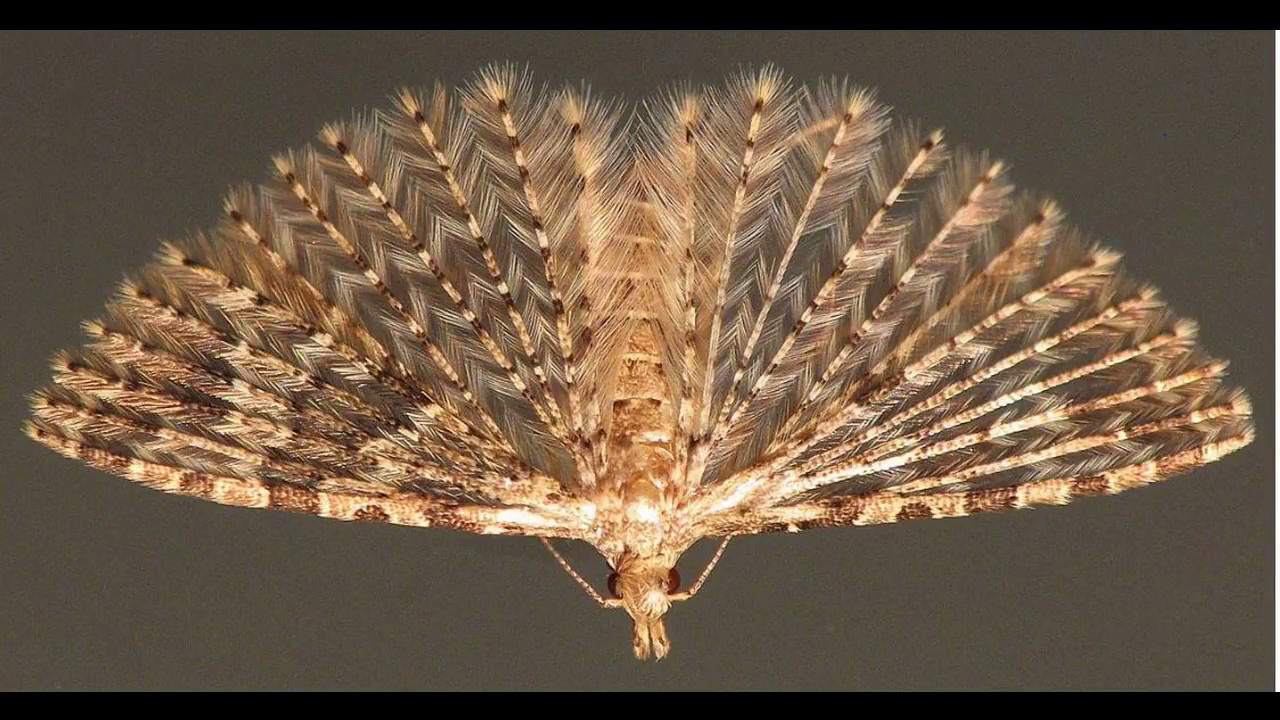Alucitidae: (18, 45, 1257, 667)
moth: (20, 47, 1259, 669)
